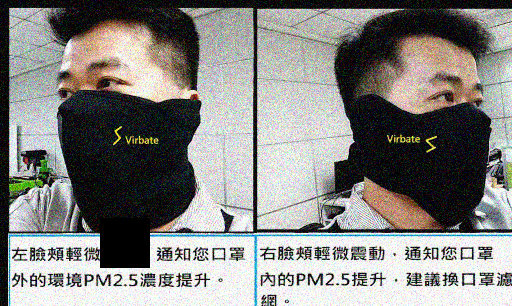with_mask: (56, 50, 192, 211), (387, 67, 488, 211)
